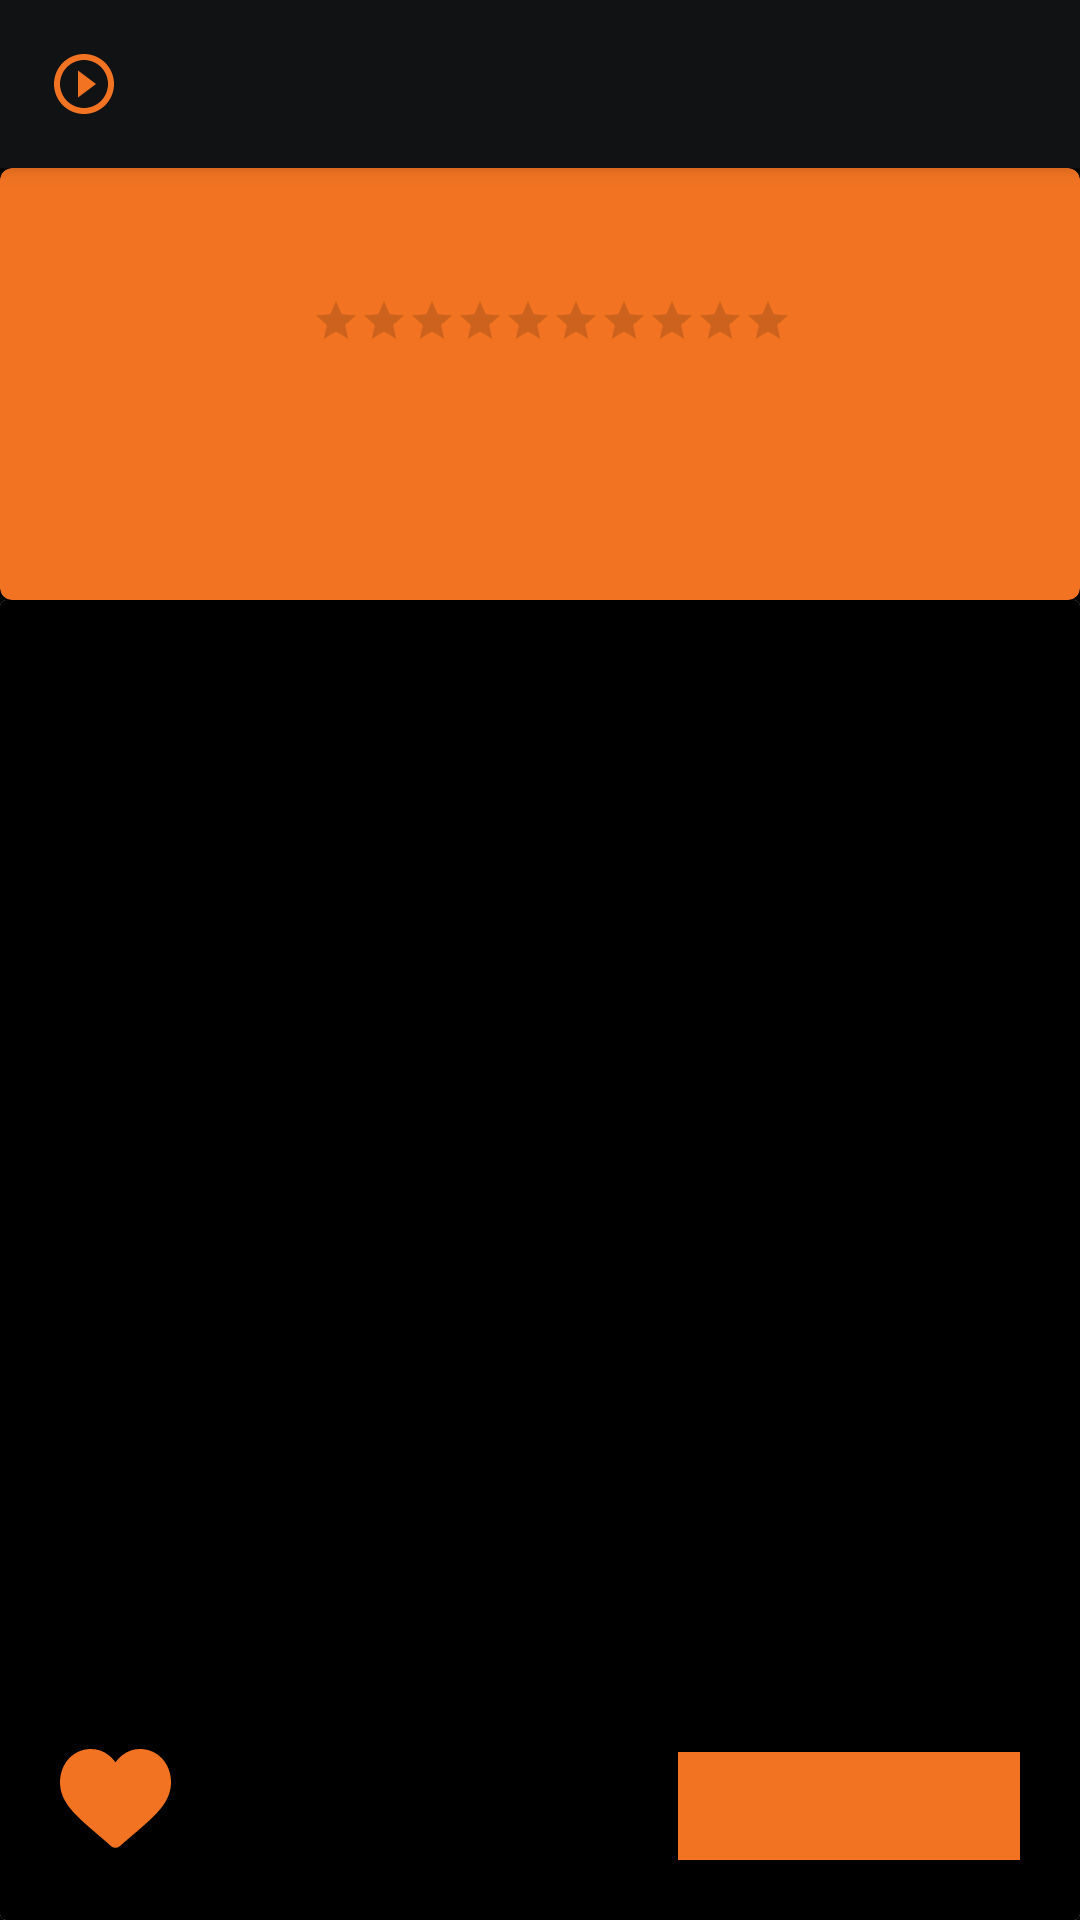

Icons on this 1080×1920 Android screen, each with the point to tap as (x,y):
heart plain: (115,1798)
